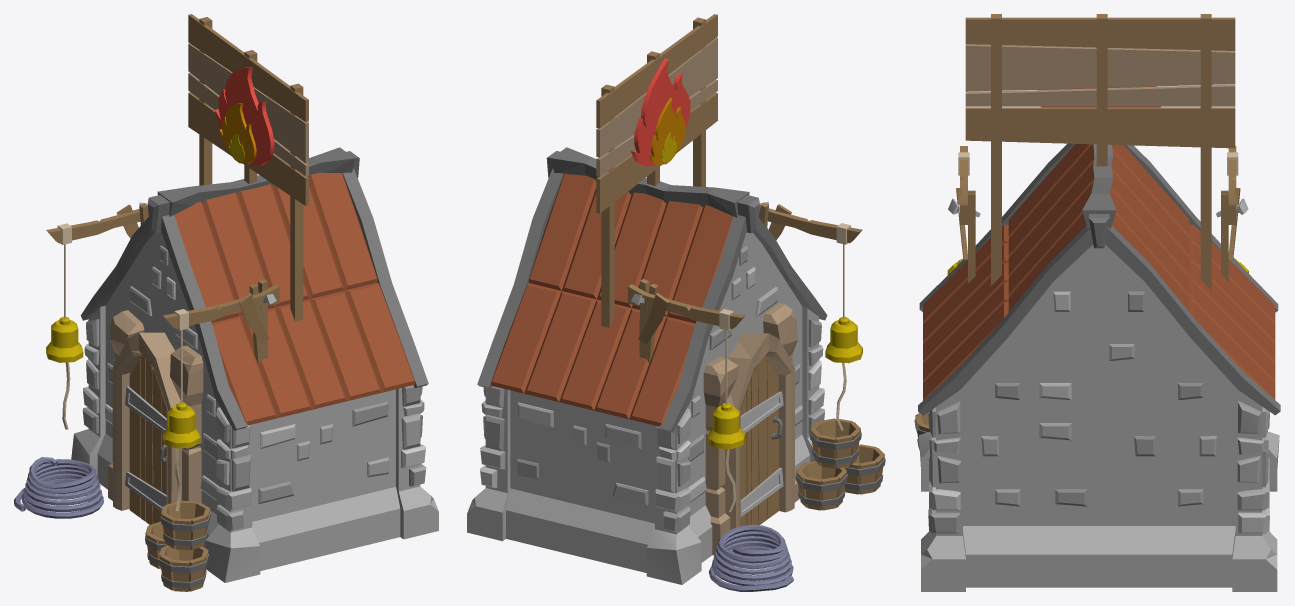
Rendered from firefighter.fbx.
The picture shows the model from 3 angles, left to right: view 1: azimuth 30°, elevation 25°; view 2: azimuth 150°, elevation 25°; view 3: azimuth 270°, elevation 25°; orthographic projection. The views are drawn at different scales.
Visible parts, largest first — view 1: FireFighter; view 2: FireFighter; view 3: FireFighter.
Part boxes in pixels (x1,y1,x2,y2): FireFighter: (14,14,438,591); FireFighter: (467,14,885,591); FireFighter: (914,14,1280,591).
Size of the model in its own units: 231 by 337 by 217.
